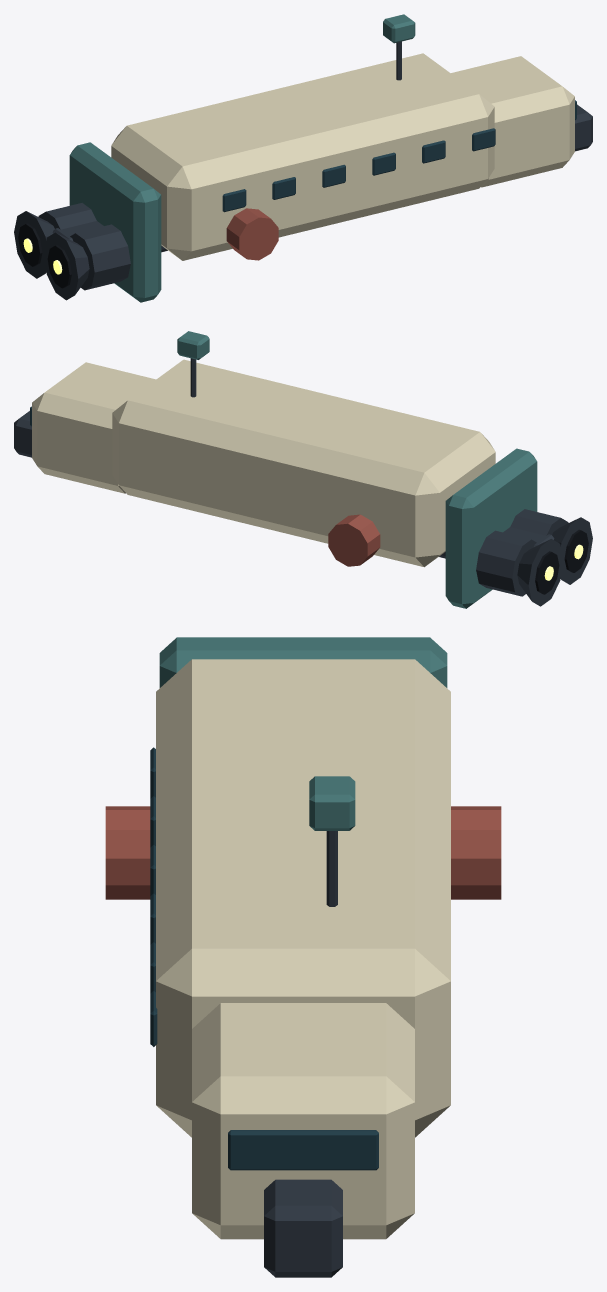
File: local-arrangement.glb
3 views of the same model, one above another, from view 1: azimuth 30°, elevation 25°; view 2: azimuth 150°, elevation 25°; view 3: azimuth 270°, elevation 25° (orthographic). The views are drawn at different scales.
Visible parts, largest first — view 1: passenger cabin, forward command, reactor shield, engine jacket, docking collar, engine bell, engine bell.001, structural spine, engine jacket.001, sensor head, engine throat, engine throat.001 (+6 smaller); view 2: passenger cabin, forward command, reactor shield, engine jacket.001, docking collar.001, engine bell.001, engine bell, structural spine, engine jacket, sensor head, engine throat.001, engine throat; view 3: passenger cabin, forward command, structural spine, reactor shield, bridge glazing, docking collar.001, docking collar, sensor head, radio mast.
Boxes of the visible parts, x1,y1,x2,y2 form: passenger cabin: (111,53,494,260); forward command: (451,56,574,187); reactor shield: (69,142,161,302); engine jacket: (70,224,130,290); docking collar: (226,208,278,260); engine bell: (44,232,89,300); engine bell.001: (14,211,54,278); structural spine: (52,104,592,252); engine jacket.001: (38,203,96,229); sensor head: (383,14,415,43); engine throat: (47,245,71,288); engine throat.001: (18,223,42,266); passenger cabin: (112,359,495,567); forward command: (32,362,155,493); reactor shield: (445,448,537,608); engine jacket.001: (476,530,536,596); docking collar.001: (328,514,380,566); engine bell.001: (517,539,560,606); engine bell: (552,517,592,584); structural spine: (14,411,554,558); engine jacket: (510,509,568,535); sensor head: (177,331,209,359); engine throat.001: (535,551,559,594); engine throat: (564,529,588,572); passenger cabin: (156,659,450,1137); forward command: (192,1003,414,1239); structural spine: (264,1179,342,1277); reactor shield: (159,637,447,687); bridge glazing: (228,1130,378,1170); docking collar.001: (451,806,501,899); docking collar: (105,806,150,899); sensor head: (309,776,355,830); radio mast: (326,831,337,906).
Size of the model in its own units: 8.73 by 2.79 by 2.75.
